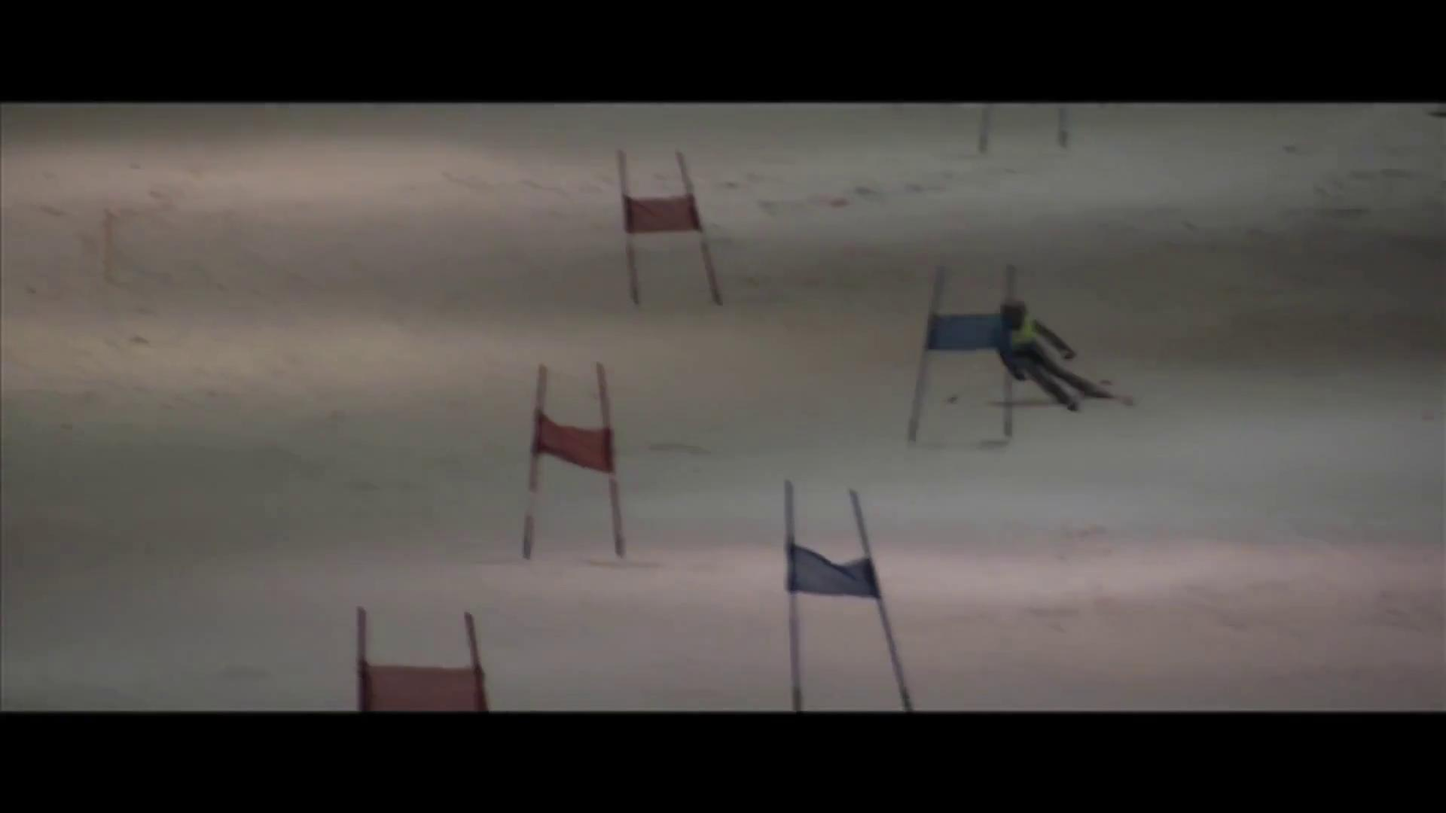gate: (785, 481, 911, 711), (523, 362, 625, 559), (618, 151, 721, 305)
